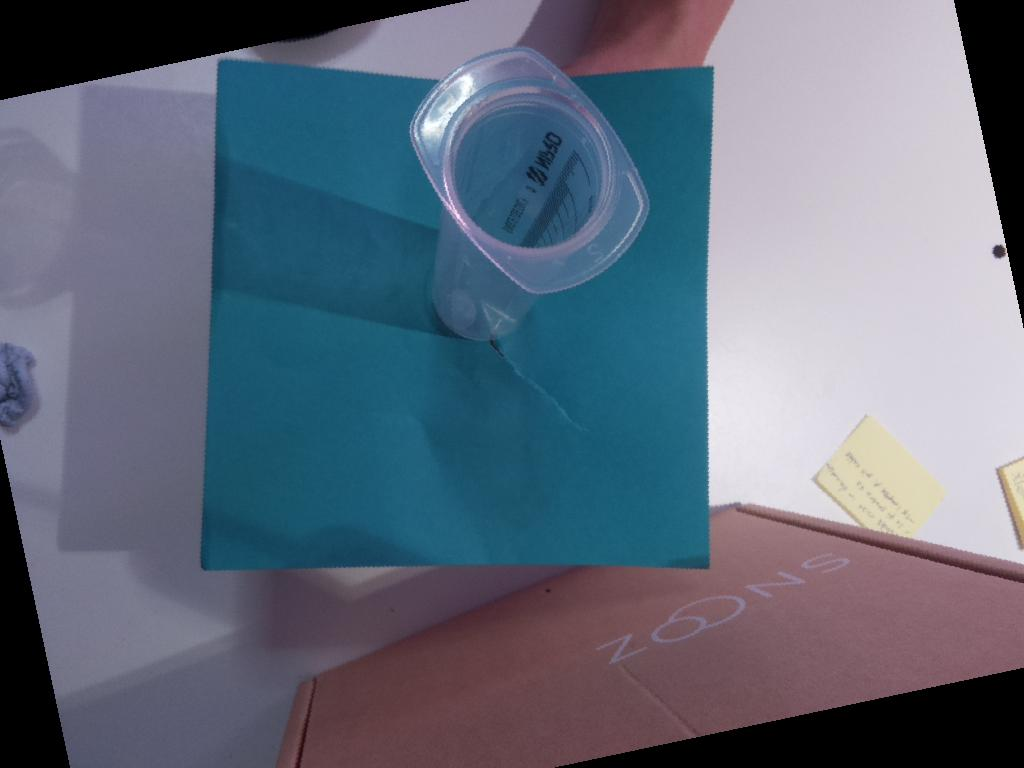clean: (406, 44, 651, 297)
